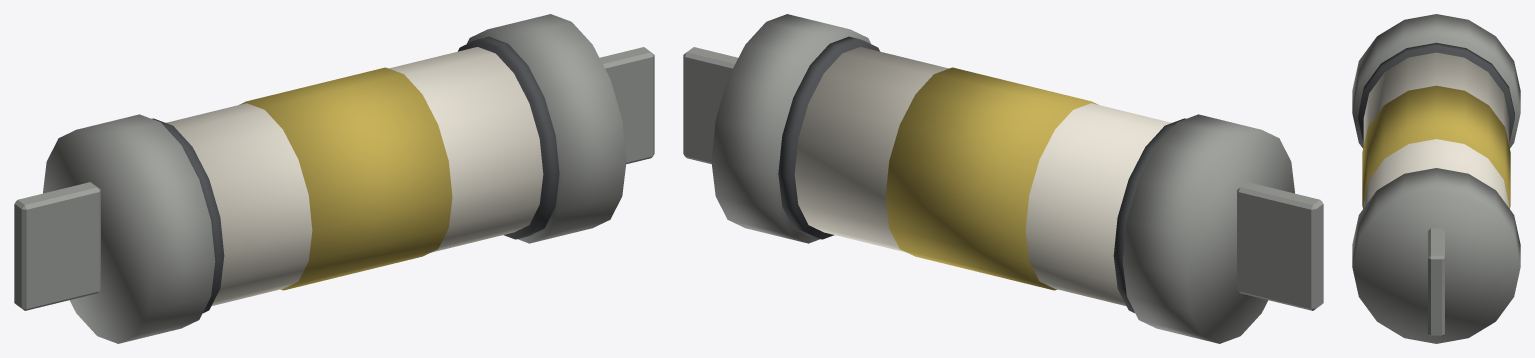
File: fuse_pickup.glb
3 views of the same model, side by side, from view 1: azimuth 30°, elevation 25°; view 2: azimuth 150°, elevation 25°; view 3: azimuth 270°, elevation 25° (orthographic). The views are drawn at different scales.
Visible parts, largest first — view 1: fuse_pickup; view 2: fuse_pickup; view 3: fuse_pickup.
Part boxes in pixels (left/top/right/bottom): fuse_pickup: left=14, top=14, right=654, bottom=343; fuse_pickup: left=683, top=14, right=1323, bottom=343; fuse_pickup: left=1352, top=14, right=1520, bottom=343.
Bounding box in the file's own units: 0.2 × 0.06 × 0.06.
